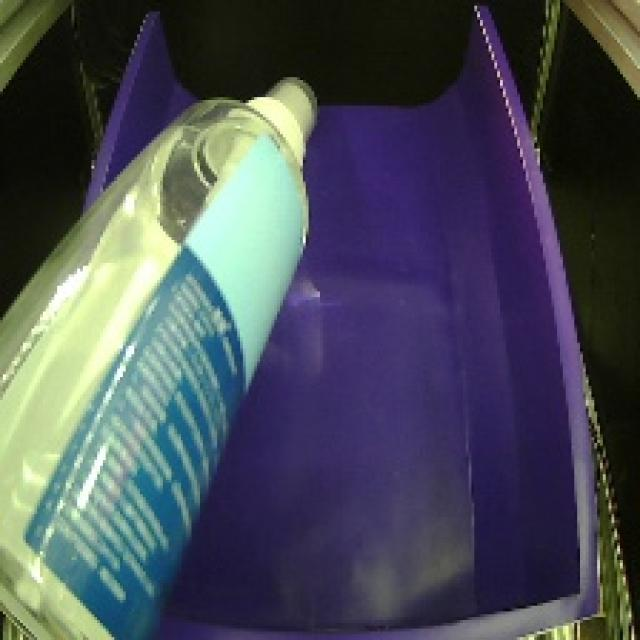plastic: (0, 57, 323, 640)
